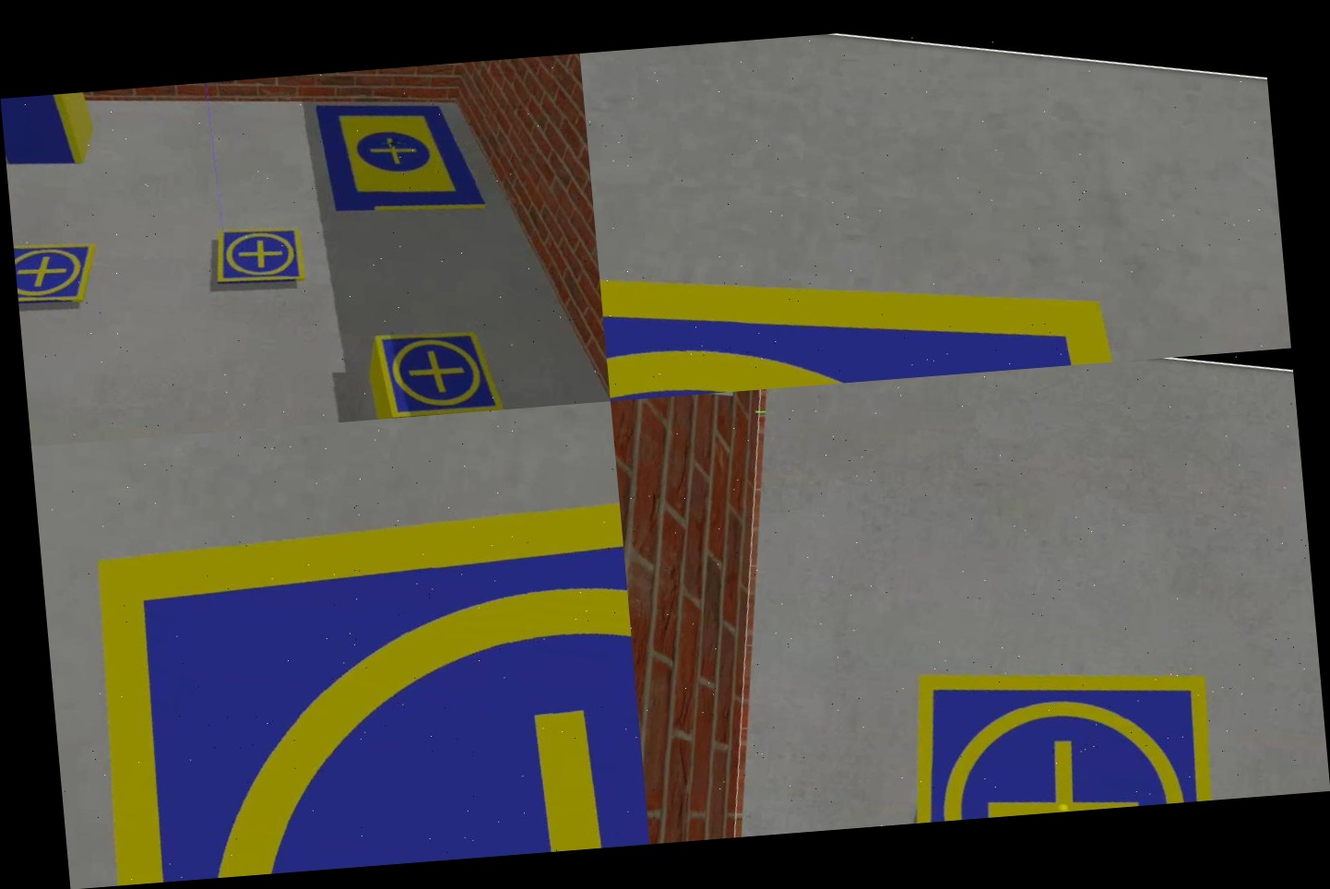large_base: (296, 80, 508, 242)
small_base: (31, 401, 650, 889), (590, 121, 1287, 401), (853, 623, 1265, 826), (357, 311, 520, 421), (202, 217, 314, 302), (12, 225, 101, 323)
